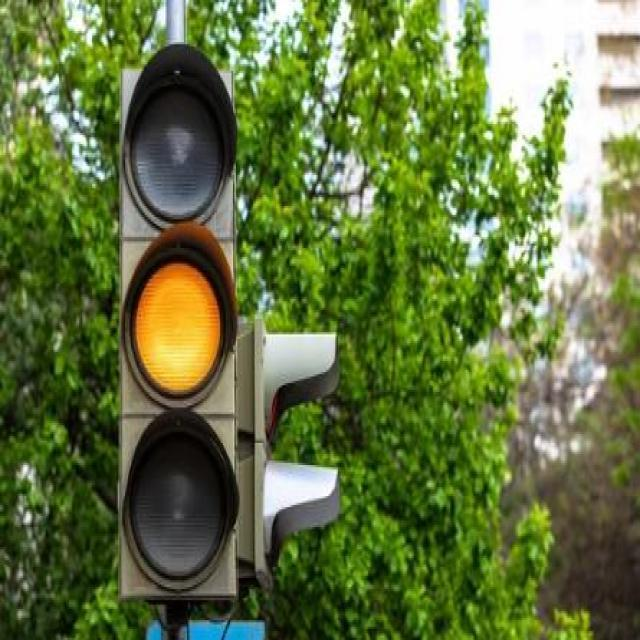yellow_light: (118, 38, 234, 598)
